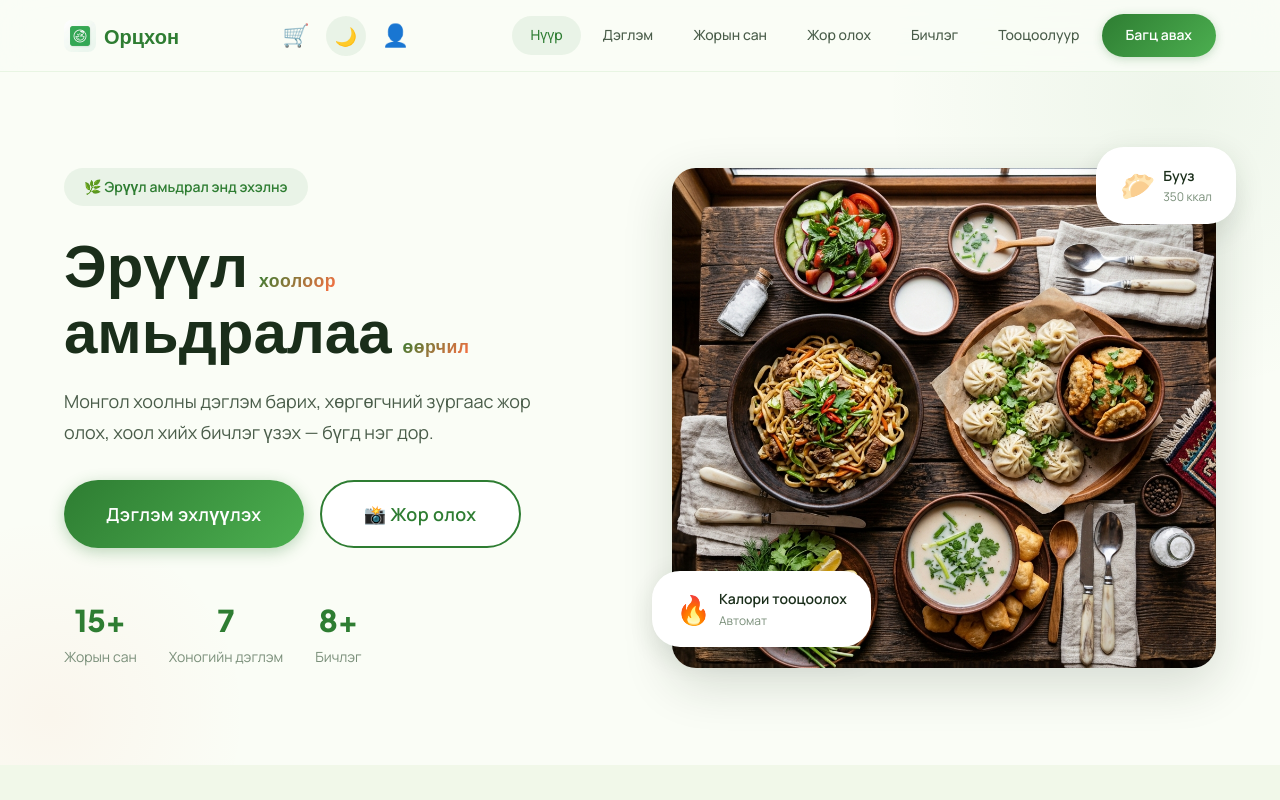
Home Page Smoke Test › navigates to login page
Check: the link with test id "nav-link-home" is shown, box x1=512 y1=16 x2=580 y2=54
Step 1. Click the link to "/login" → (396,36), box x1=382 y1=18 x2=410 y2=53
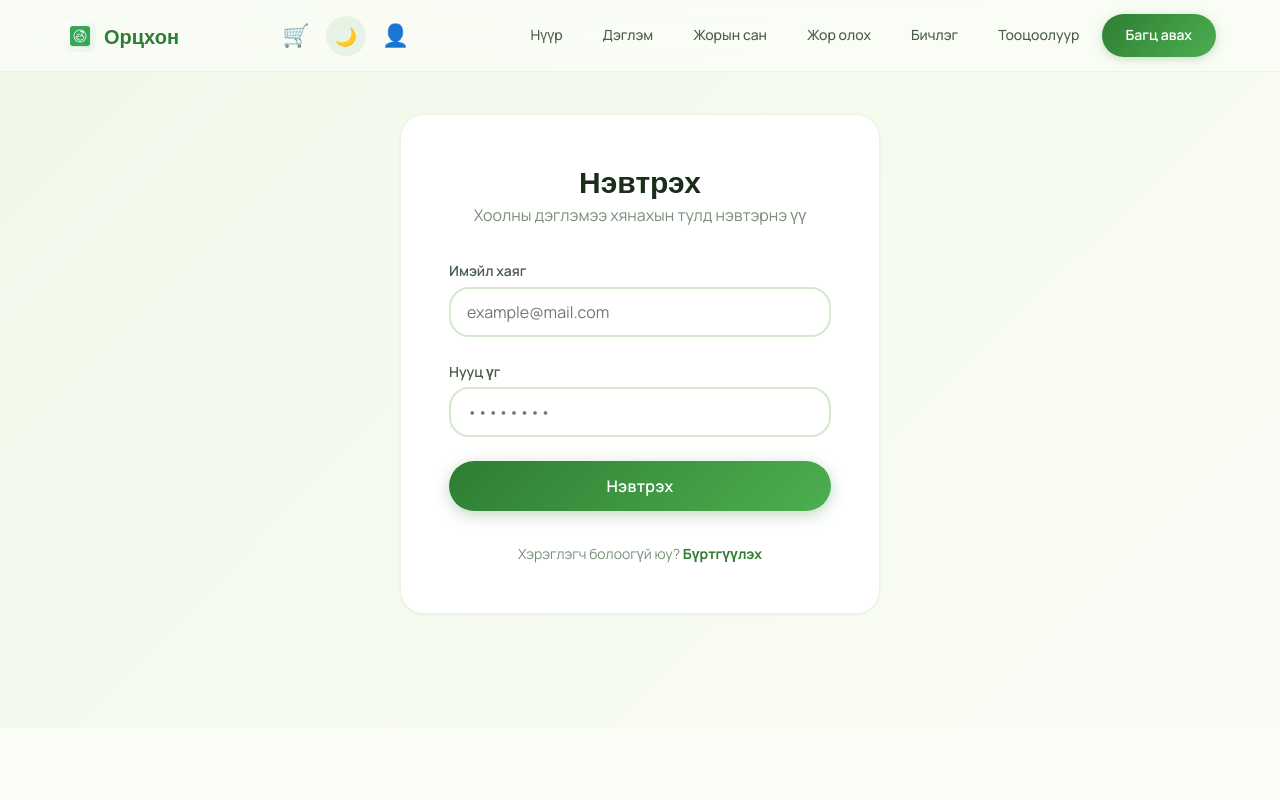
Check: the field with test id "login-email" is shown, box x1=449 y1=287 x2=831 y2=337
